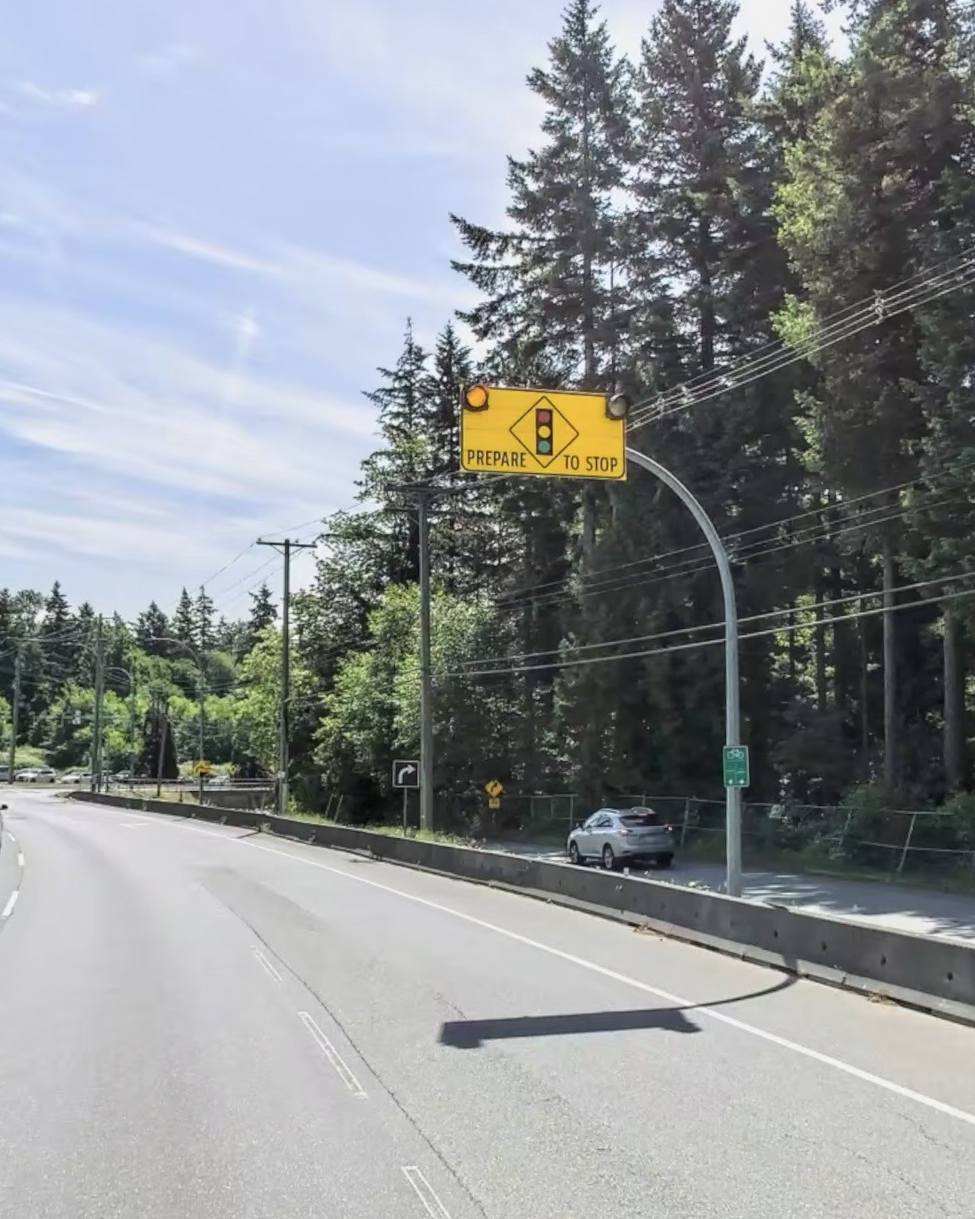signal_ahead: (441, 351, 638, 493)
